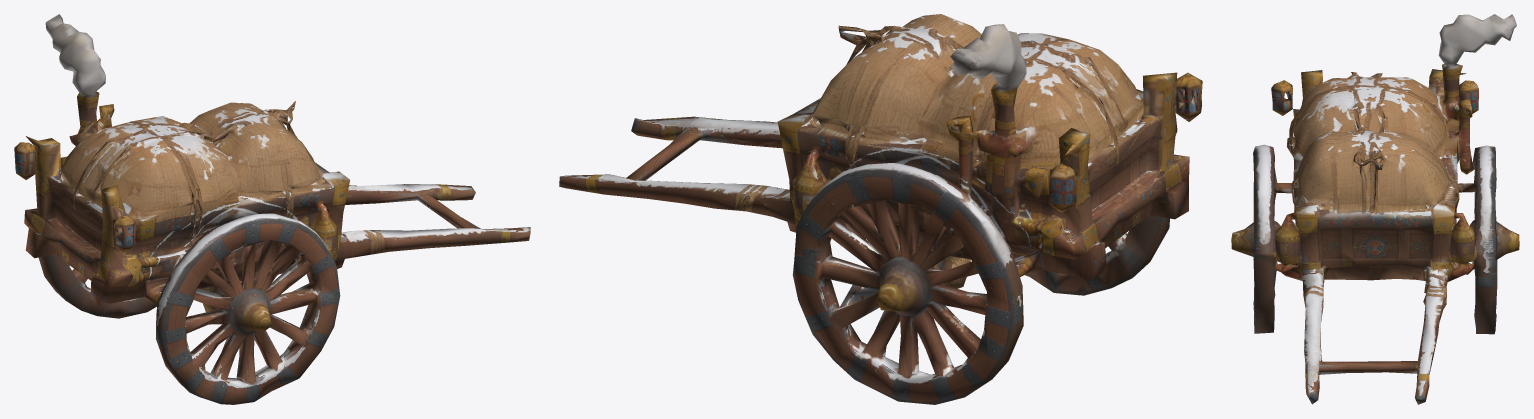
The model's file is PR_HandCart.fbx.
The picture shows the model from 3 angles, left to right: view 1: azimuth 30°, elevation 25°; view 2: azimuth 150°, elevation 25°; view 3: azimuth 270°, elevation 25°; orthographic projection. The views are drawn at different scales.
Parts seen in each view (by area): view 1: texture_mapping; view 2: texture_mapping; view 3: texture_mapping.
Part boxes in pixels (x1,y1,x2,y2): texture_mapping: (14,14,530,404); texture_mapping: (559,14,1202,404); texture_mapping: (1231,14,1519,404).
Bounding box in the file's own units: 0.9898 × 0.6052 × 0.6562.
Materials: 1 (1 with a texture image).
